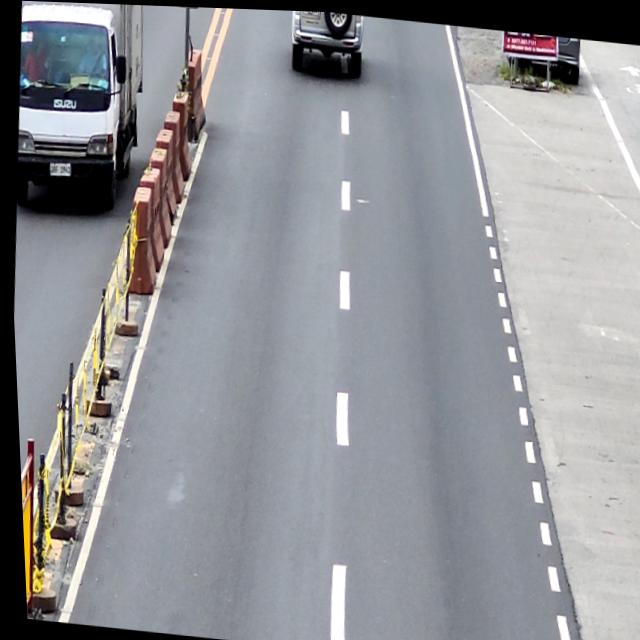Car: (287, 8, 367, 77)
